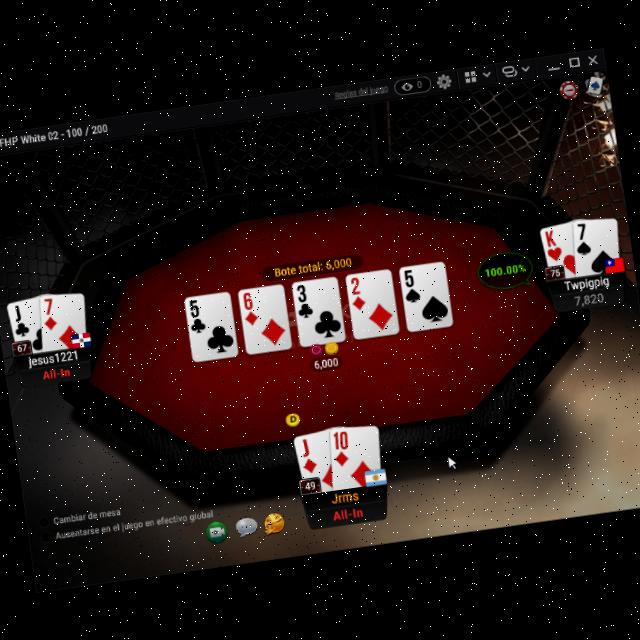2d: (347, 272, 368, 310)
3c: (294, 279, 316, 319)
5c: (186, 294, 208, 334)
5s: (400, 265, 422, 303)
6d: (240, 288, 260, 326)
7d: (38, 294, 61, 332)
7s: (570, 218, 594, 255)
Jc: (11, 300, 34, 337)
Jd: (298, 433, 321, 473)
Kh: (542, 224, 564, 261)
Td: (328, 425, 354, 468)
all_in_symbol: (329, 502, 366, 522), (41, 362, 72, 380)
bet_text: (311, 352, 340, 369)
dealer: (282, 408, 302, 427)
pot_text: (274, 254, 354, 277)
stack_text: (573, 288, 606, 306)
